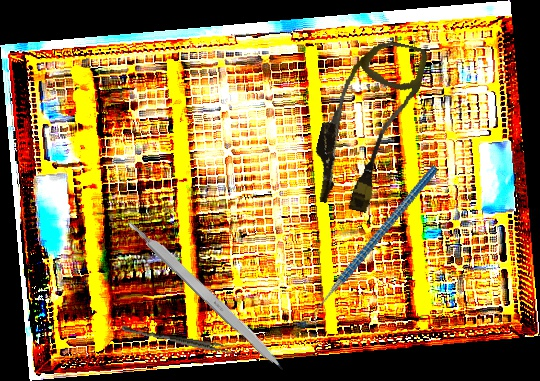Cannula: (303, 29, 430, 219)
Chopper: (275, 165, 476, 328)
Scalpel Handle: (125, 214, 289, 374)
Tissue Forceps: (121, 325, 236, 355)
